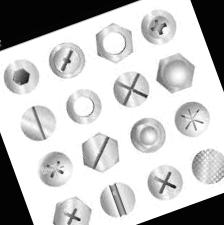hexagonal: (88, 17, 139, 68), (75, 127, 125, 177), (149, 48, 200, 96), (46, 191, 97, 225)
